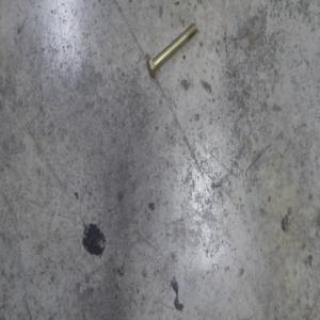Bolttrack_idkeyframe: (144, 22, 198, 78)
